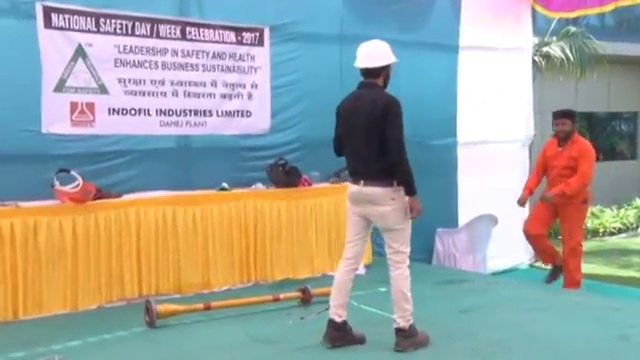helmet: (351, 38, 401, 73)
helmet_off: (550, 109, 575, 142)
helmet_on: (351, 38, 402, 92)
person: (331, 30, 430, 349), (522, 110, 601, 291)
